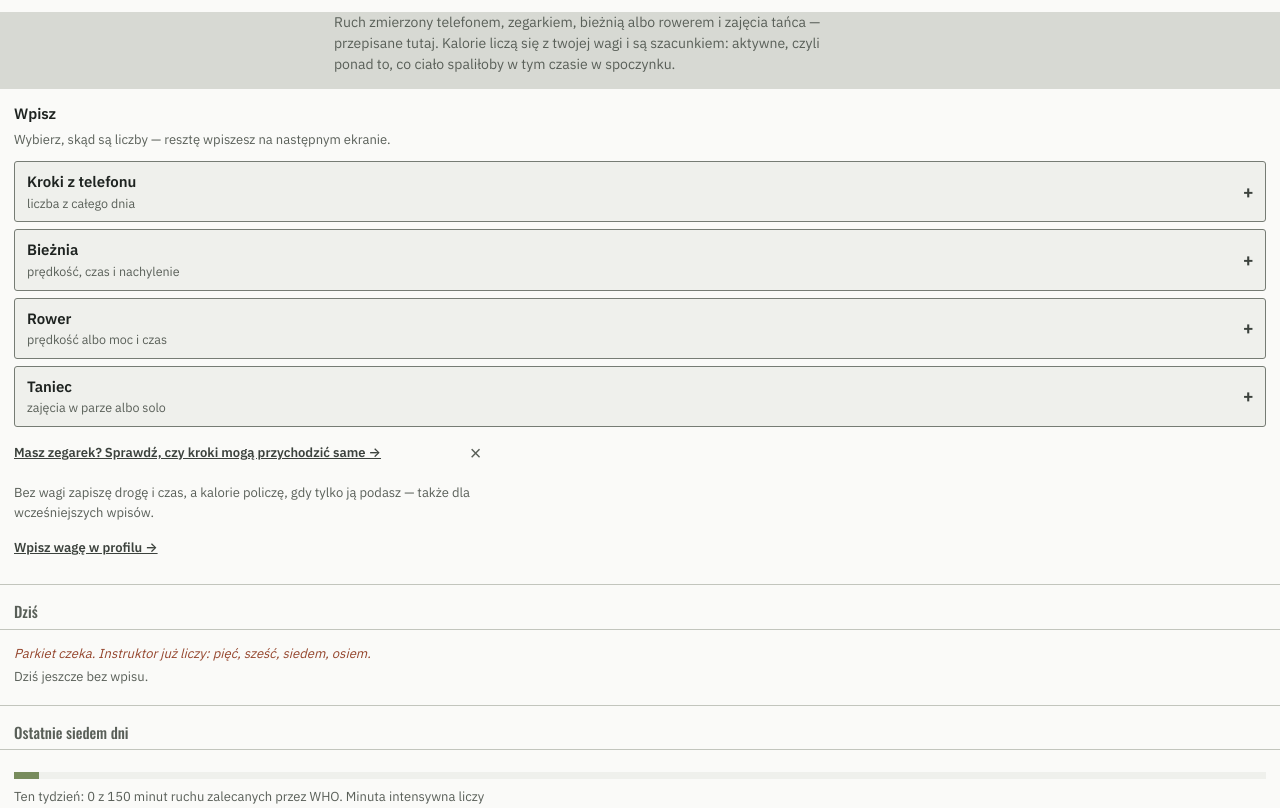
link do sprawdzenia zegarka › „Nie pokazuj więcej” chowa link na stałe — na ekranie kroków i w formularzu
Click the button named "Nie pokazuj więcej". click: [476, 453]
box: [454, 431, 498, 475]
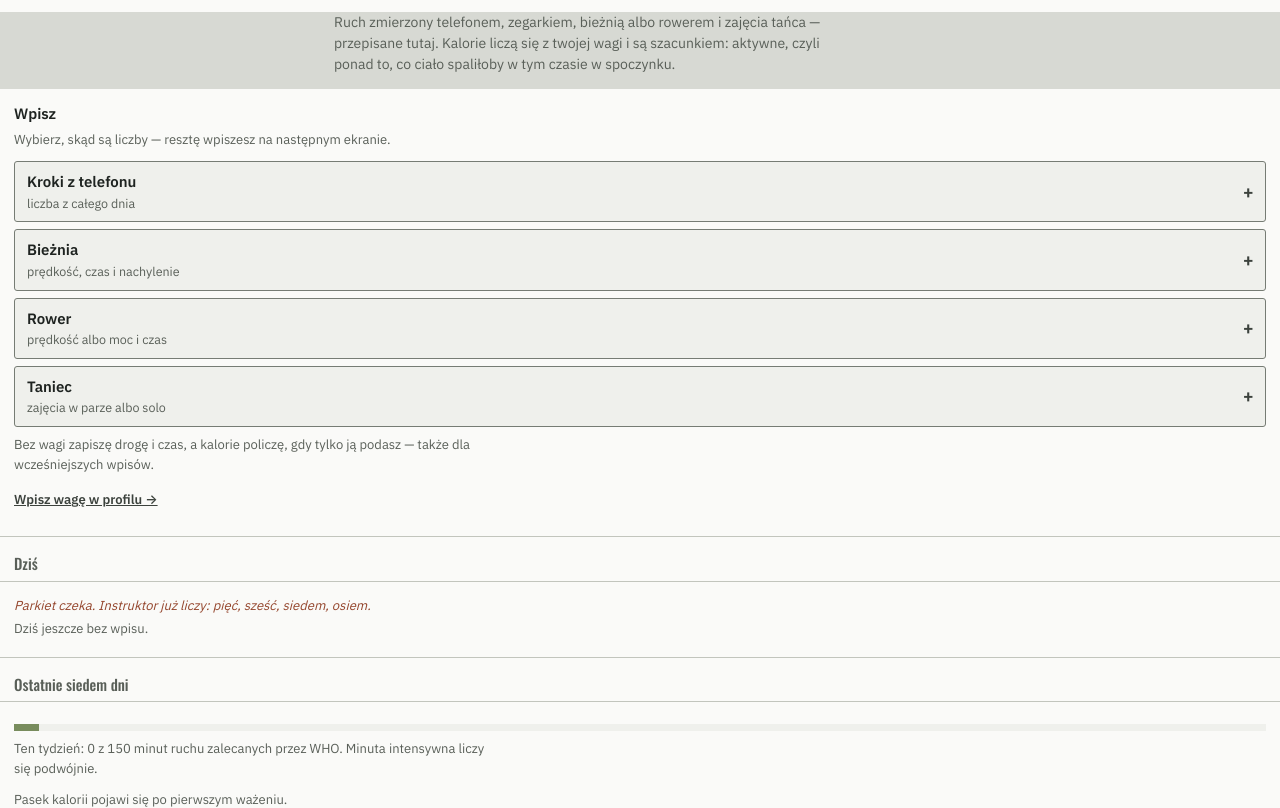
Result: the link "Masz zegarek? Sprawdź, czy kroki mogą przychodzić same →" is gone
